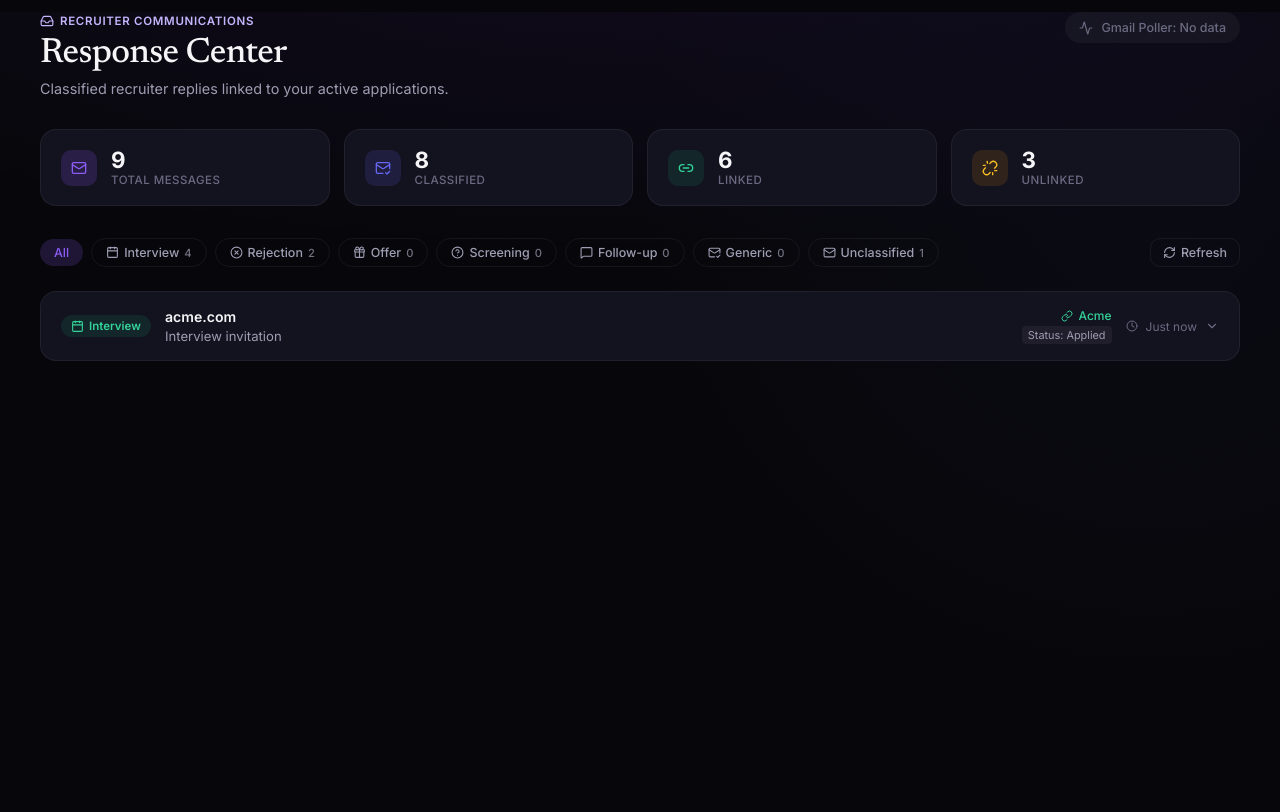
Test: ResponseCenterPlaceholder › expands a message to reveal body preview and sender details
Click the text "Interview invitation". click: {"x": 223, "y": 336}
box: [165,328,282,344]
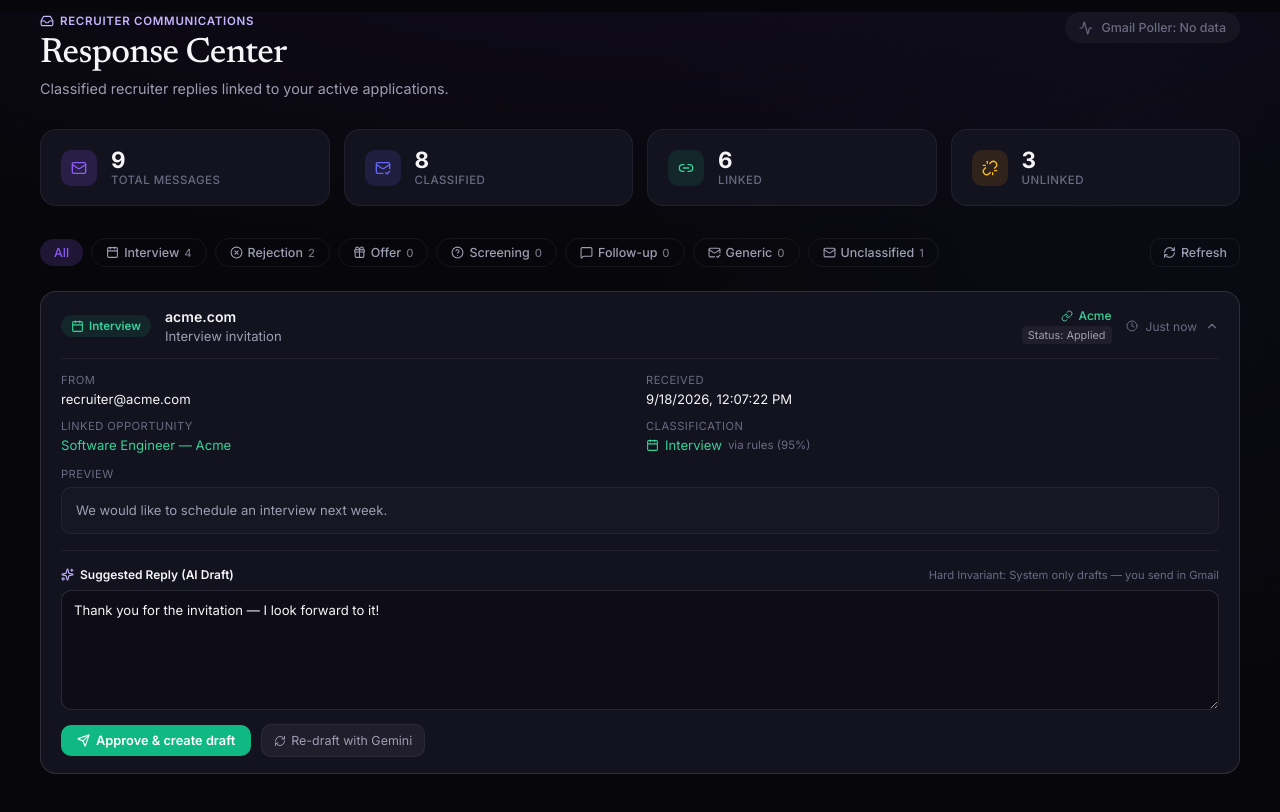
expect the text "We would like to schedule an interview next week." is shown: met, box [61,487,1219,534]
expect the text "recruiter@acme.com" is shown: met, box [61,391,191,407]
expect the text "Software Engineer — Acme" is shown: met, box [61,437,231,453]
